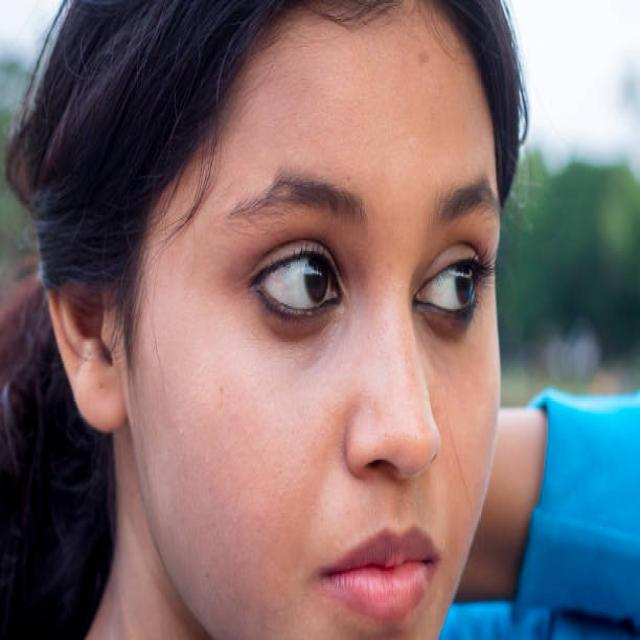low: (247, 312, 354, 371), (414, 316, 494, 359)
